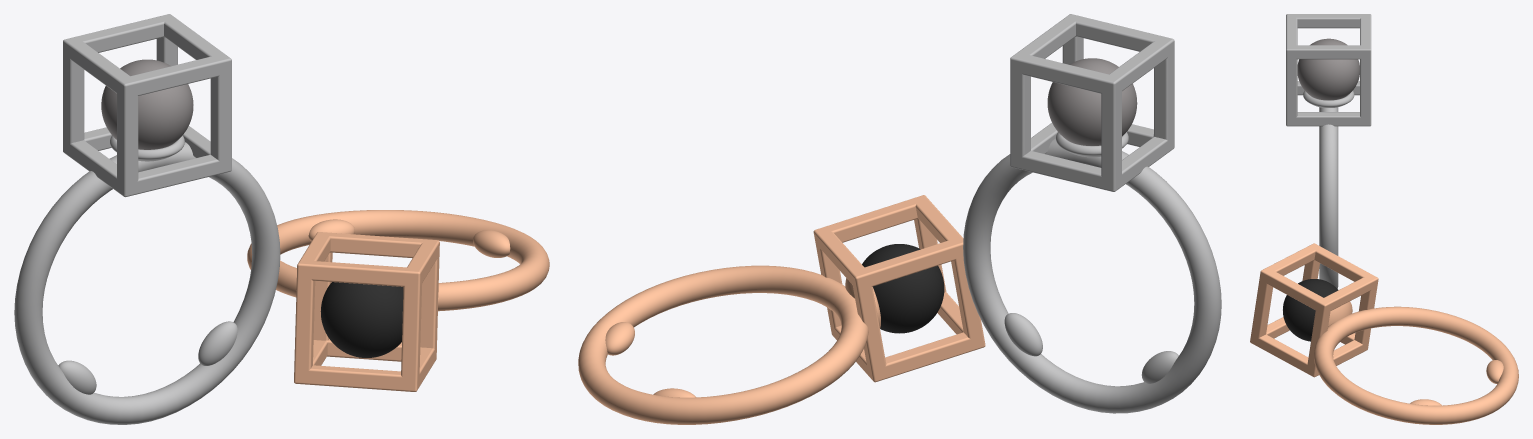
3 views of the same model, side by side, from view 1: azimuth 30°, elevation 25°; view 2: azimuth 150°, elevation 25°; view 3: azimuth 270°, elevation 25° (orthographic). The views are drawn at different scales.
Parts seen in each view (by area): view 1: bagueCube_023dm; view 2: bagueCube_023dm; view 3: bagueCube_023dm.
Part boxes in pixels (x1,y1,x2,y2): bagueCube_023dm: [14, 14, 549, 424]; bagueCube_023dm: [578, 14, 1221, 424]; bagueCube_023dm: [1250, 14, 1518, 424].
Size of the model in its own units: 3.04 by 1.87 by 1.8.
